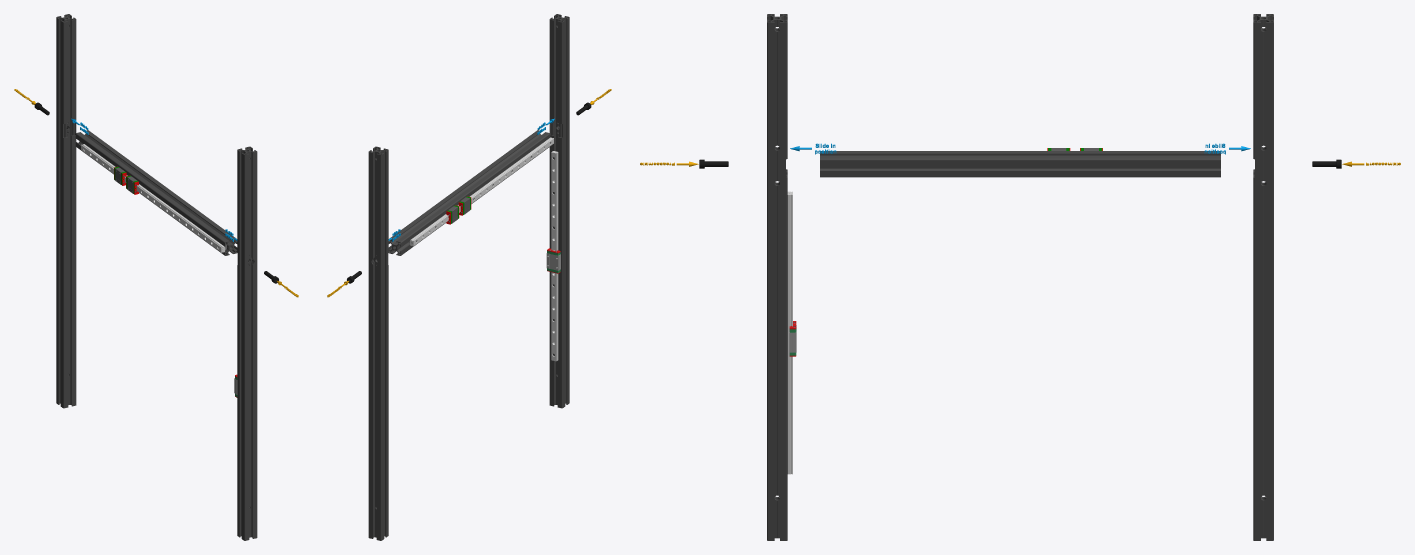
3 views of the same model, side by side, from view 1: azimuth 30°, elevation 25°; view 2: azimuth 150°, elevation 25°; view 3: azimuth 270°, elevation 25° (orthographic). The views are drawn at different scales.
Visible parts, largest first — view 1: 01_01__XP__Alu_3030_Pillar___V2.0 v24, 01_01__XP__Alu_3030_Pillar___V2.0 v025, 01_02__XP__Alu_3030_Beam_1___V1.0 v14, MGNR12R550HM_FILE_2 v3; view 2: 01_01__XP__Alu_3030_Pillar___V2.0 v025, 01_01__XP__Alu_3030_Pillar___V2.0 v24, 01_02__XP__Alu_3030_Beam_1___V1.0 v14, MGNR12R450HM_FILE_2 v1, MGNR12R550HM_FILE_2 v3; view 3: 01_01__XP__Alu_3030_Pillar___V2.0 v24, 01_01__XP__Alu_3030_Pillar___V2.0 v025, 01_02__XP__Alu_3030_Beam_1___V1.0 v14, MGNR12R450HM_FILE_2 v1.
Boxes of the visible parts, x1,y1,x2,y2 form: 01_01__XP__Alu_3030_Pillar___V2.0 v24: (237,146,257,540); 01_01__XP__Alu_3030_Pillar___V2.0 v025: (56,14,76,408); 01_02__XP__Alu_3030_Beam_1___V1.0 v14: (75,130,237,255); MGNR12R550HM_FILE_2 v3: (81,144,224,252); 01_01__XP__Alu_3030_Pillar___V2.0 v025: (368,146,388,540); 01_01__XP__Alu_3030_Pillar___V2.0 v24: (549,14,569,408); 01_02__XP__Alu_3030_Beam_1___V1.0 v14: (388,130,550,255); MGNR12R450HM_FILE_2 v1: (551,151,558,361); MGNR12R550HM_FILE_2 v3: (410,137,553,246); 01_01__XP__Alu_3030_Pillar___V2.0 v24: (767,14,787,540); 01_01__XP__Alu_3030_Pillar___V2.0 v025: (1253,14,1273,540); 01_02__XP__Alu_3030_Beam_1___V1.0 v14: (820,151,1220,177); MGNR12R450HM_FILE_2 v1: (787,191,792,474).
Bounding box in the file's own units: 0.043 × 0.835 × 1.11.
